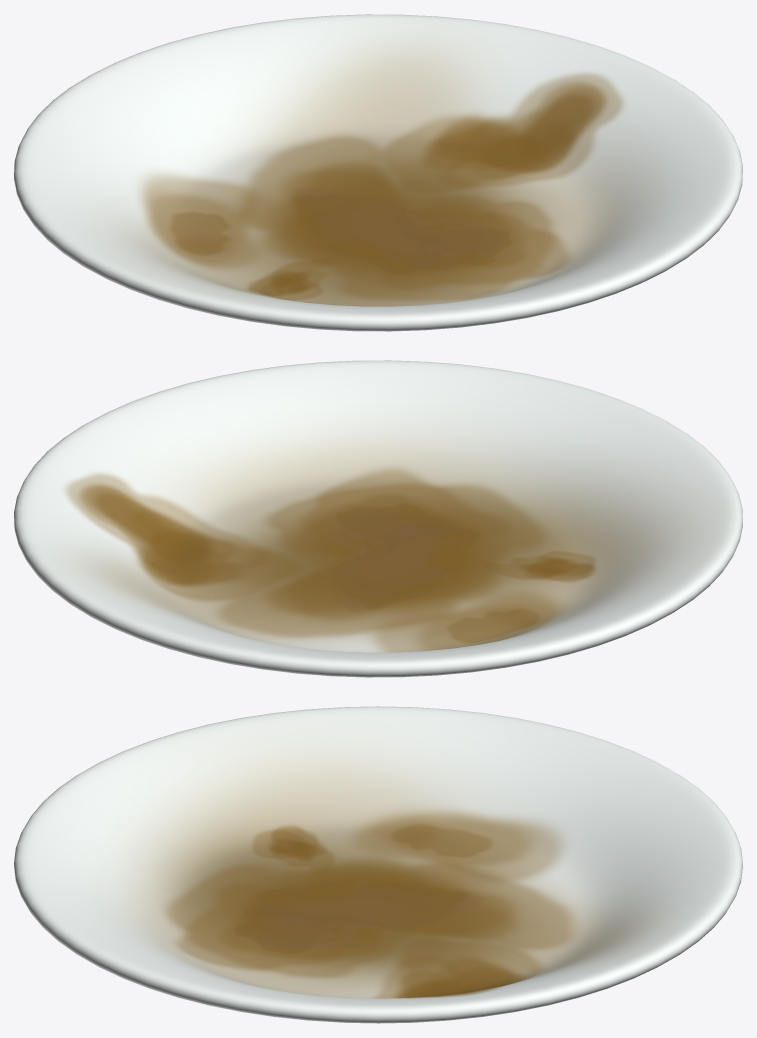
The model's file is PlateDeepT2.fbx.
The picture shows the model from 3 angles, top to bottom: view 1: azimuth 30°, elevation 25°; view 2: azimuth 150°, elevation 25°; view 3: azimuth 270°, elevation 25°; orthographic projection.
Parts seen in each view (by area): view 1: DeepPlate; view 2: DeepPlate; view 3: DeepPlate.
Boxes of the visible parts, <box> form: DeepPlate: <box>14,14,742,331</box>; DeepPlate: <box>14,360,742,677</box>; DeepPlate: <box>14,706,742,1023</box>.
Bounding box in the file's own units: 691 × 74.32 × 691.
